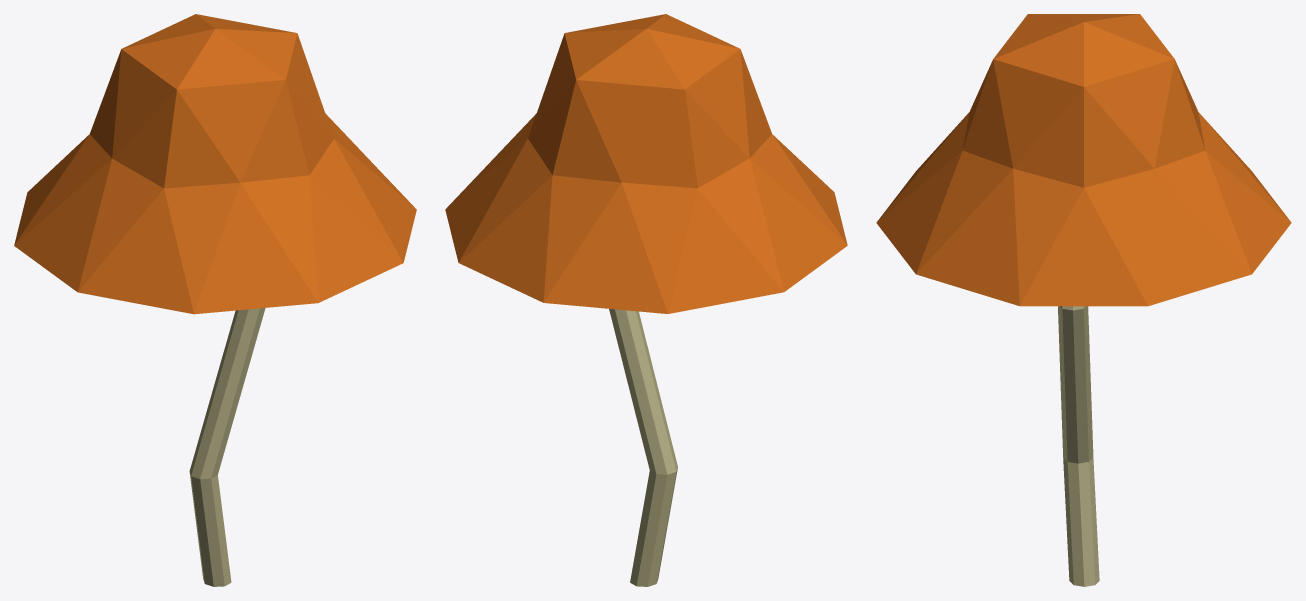
File: hat_mushroom_tall_orange.fbx
3 views of the same model, side by side, from view 1: azimuth 30°, elevation 25°; view 2: azimuth 150°, elevation 25°; view 3: azimuth 270°, elevation 25° (orthographic).
Visible parts, largest first — view 1: hat_mushroom_tall_orange; view 2: hat_mushroom_tall_orange; view 3: hat_mushroom_tall_orange.
Boxes of the visible parts, <box> form: hat_mushroom_tall_orange: <box>14,14,416,586</box>; hat_mushroom_tall_orange: <box>445,14,847,586</box>; hat_mushroom_tall_orange: <box>876,14,1291,586</box>.
Size of the model in its own units: 89.41 by 139 by 94.01.
